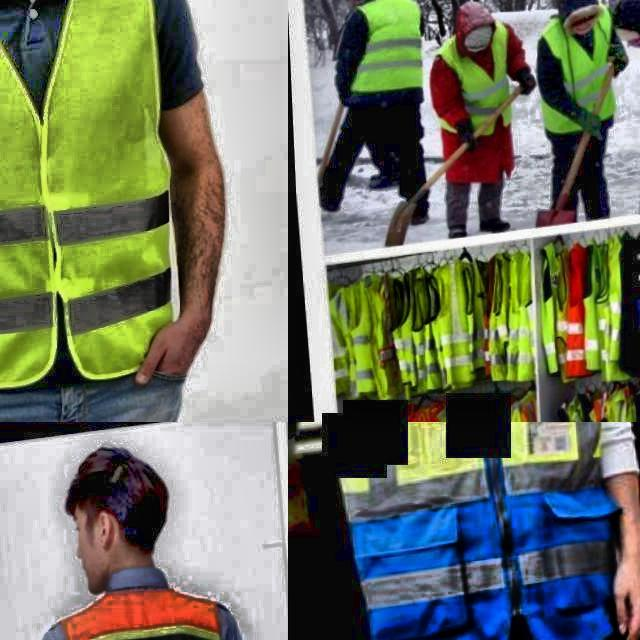safety_jacket: (0, 0, 167, 378), (318, 422, 610, 520), (531, 6, 617, 128), (426, 12, 516, 126), (341, 0, 433, 95)
